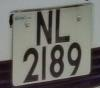1: (39, 44, 50, 83)
2: (19, 45, 42, 85)
8: (49, 42, 67, 81)
9: (66, 42, 84, 78)
L: (52, 4, 76, 46)
N: (34, 8, 55, 48)
